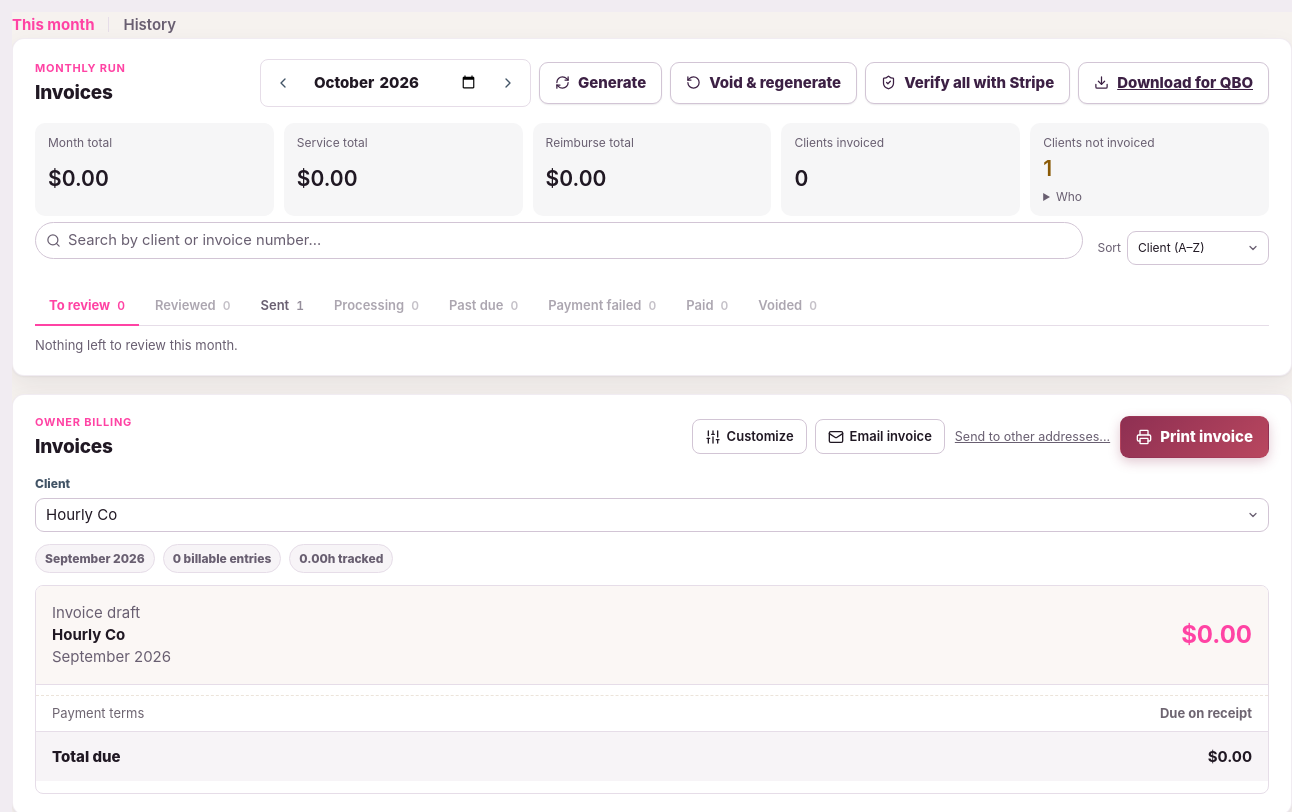
Test: Email invoice picks the month's invoice, never a retainer by accident › sends nothing and says so when the only live invoice is a retainer
Click the button "Email invoice". click: (880, 437)
box: [815,419,945,454]
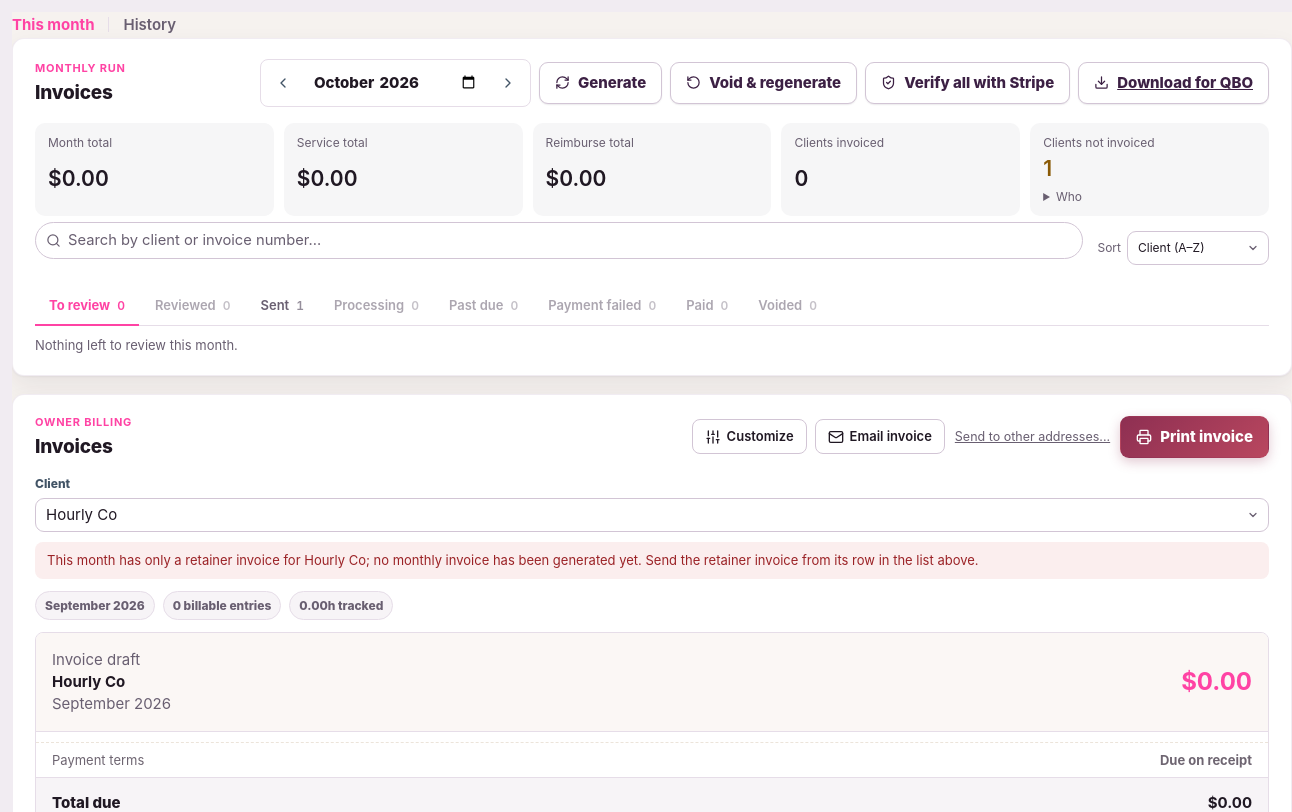
Check: the text "This month has only a retainer invoice for Hourly Co; no monthly invoice has been generated yet. Send the retainer invoi" is shown, box [47,552,979,568]
